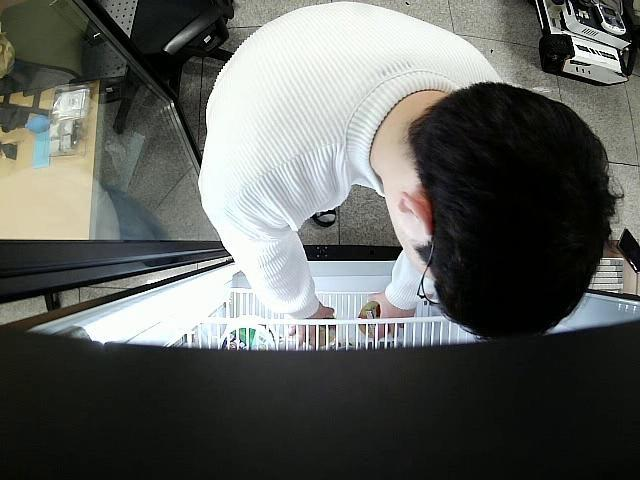04_chapagetti_S: (357, 300, 392, 336), (310, 316, 340, 345)
